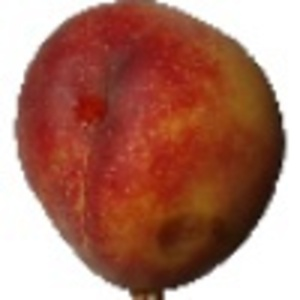pêssego: (12, 1, 287, 300)
